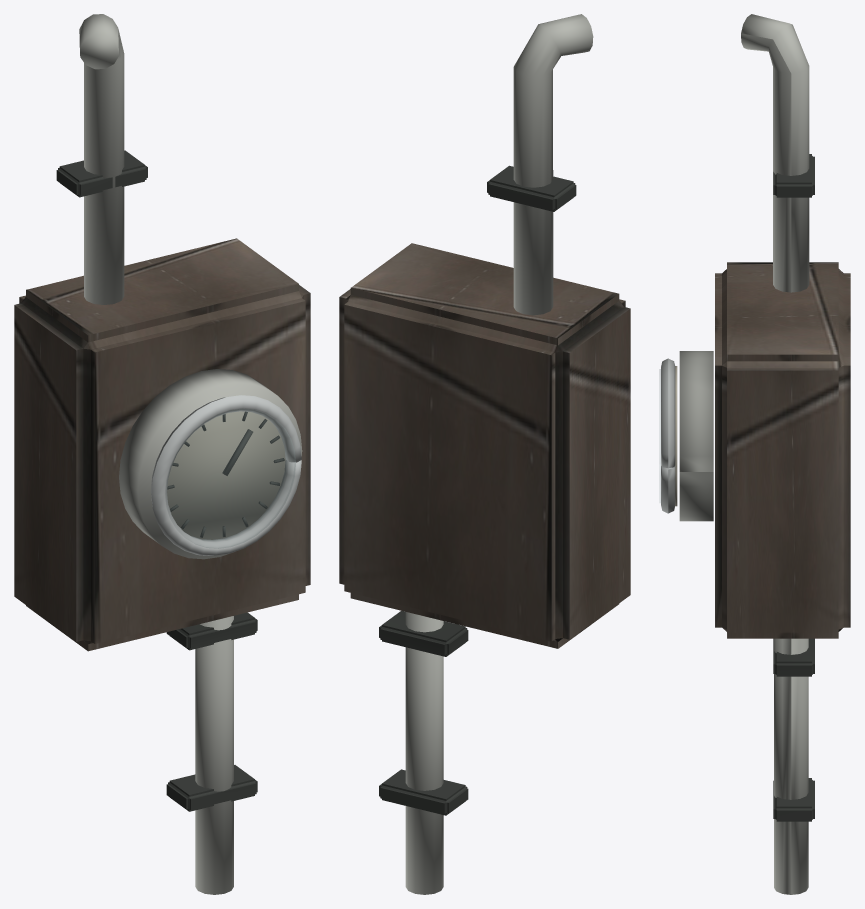
The model's file is service-meter.glb.
The picture shows the model from 3 angles, left to right: view 1: azimuth 30°, elevation 25°; view 2: azimuth 150°, elevation 25°; view 3: azimuth 270°, elevation 25°; orthographic projection. The views are drawn at different scales.
Parts seen in each view (by area): view 1: Frame; view 2: Frame; view 3: Frame.
Boxes of the visible parts, x1,y1,x2,y2 form: Frame: (14,14,310,894); Frame: (339,14,630,894); Frame: (659,14,850,894).
Bounding box in the file's own units: 0.322 × 1.19 × 0.254.
Materials: 6 (1 with a texture image).
